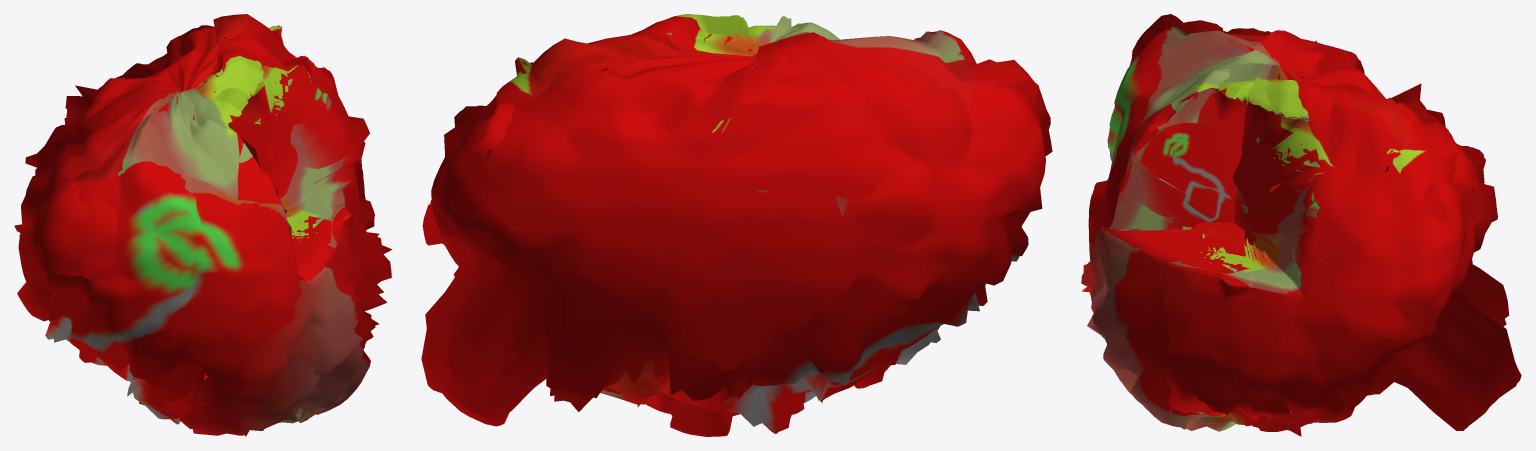
The model's file is EditedCoolModel.fbx.
3 renders of one model, left to right at view 1: azimuth 30°, elevation 25°; view 2: azimuth 150°, elevation 25°; view 3: azimuth 270°, elevation 25°, orthographic. The views are drawn at different scales.
Parts seen in each view (by area): view 1: Sphere001; view 2: Sphere001; view 3: Sphere001.
Part boxes in pixels (x1,y1,x2,y2): Sphere001: [14, 14, 392, 436]; Sphere001: [421, 14, 1052, 436]; Sphere001: [1081, 14, 1521, 436].
Bounding box in the file's own units: 29.31 × 23.36 × 26.74.
1 material, 1 textured.
